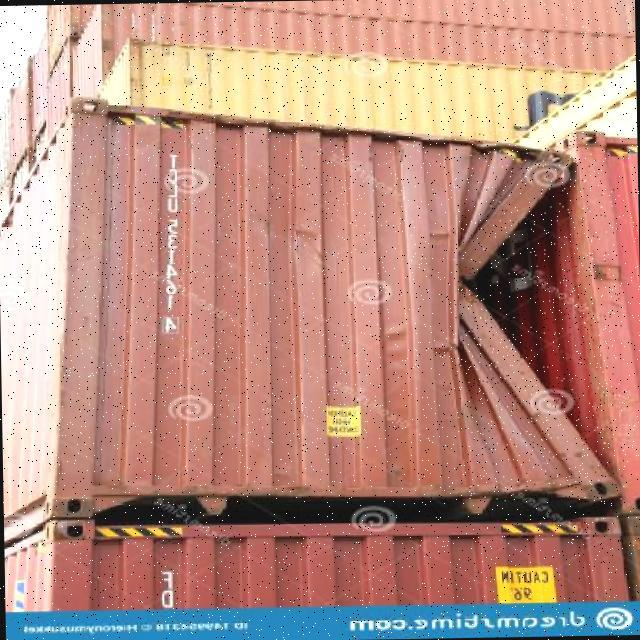Deframe: (451, 129, 624, 502)
